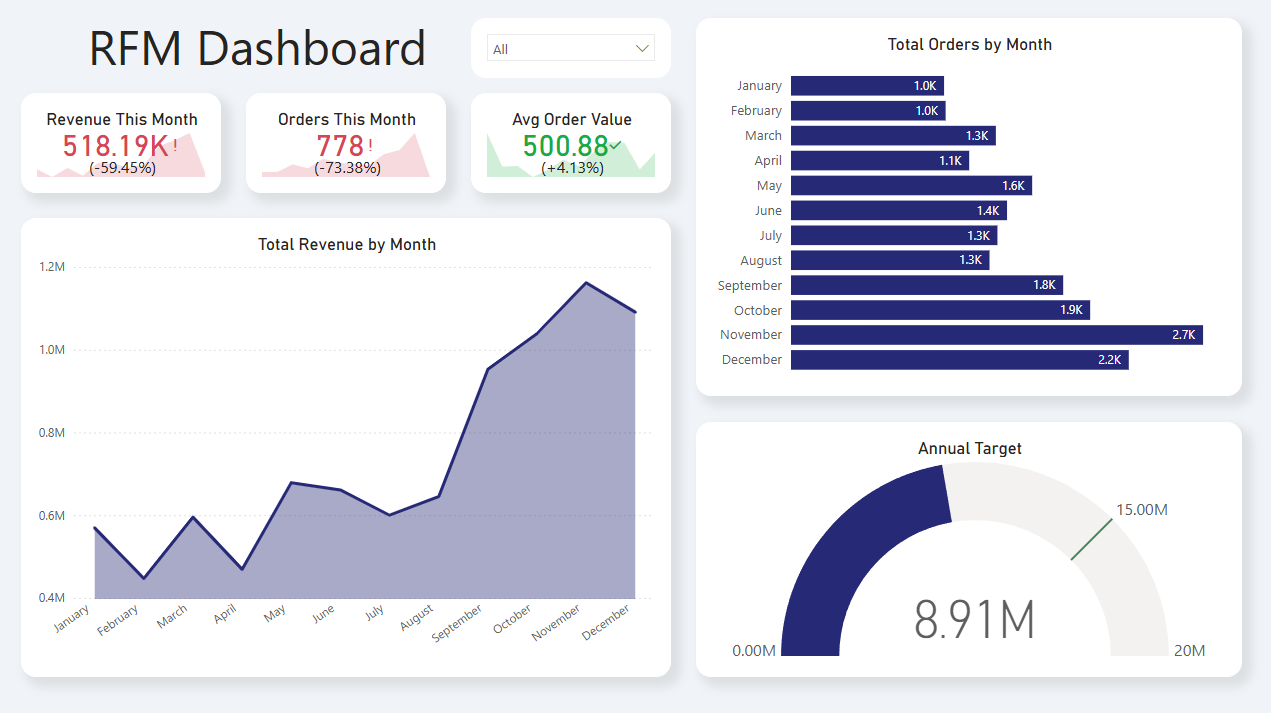

The page's visual inventory and layout, read from the dashboard file:
{"tool":"powerbi","page":{"name":"Sales Overview","canvas":[1280,720],"ordinal":0},"visuals":[{"type":"kpi","title":"Revenue This Month","fields":{"Indicator":["cleaned_retail.Revenue This Month"],"TrendLine":["cleaned_retail.InvoiceDate.Variation.Date Hierarchy.Month"],"Goal":["cleaned_retail.Revenue Target"]},"box":[25,100,200,100],"z":0},{"type":"kpi","title":"Orders This Month","fields":{"Indicator":["cleaned_retail.Orders This Month"],"TrendLine":["cleaned_retail.InvoiceDate.Variation.Date Hierarchy.Month"],"Goal":["cleaned_retail.Orders Target"]},"box":[250,100,200,100],"z":1000},{"type":"gauge","title":"Annual Target","fields":{"Y":["cleaned_retail.Total Revenue"],"MaxValue":["cleaned_retail.AnnualGoal"],"TargetValue":["cleaned_retail.AnnualMax"]},"box":[700,429,546,255],"z":2000},{"type":"barChart","fields":{"Category":["cleaned_retail.InvoiceDate.Variation.Date Hierarchy.Month"],"Y":["cleaned_retail.Total Orders"]},"box":[700,25,546,378],"z":3000},{"type":"lineChart","fields":{"Category":["cleaned_retail.InvoiceDate.Variation.Date Hierarchy.Month"],"Y":["cleaned_retail.Total Revenue"]},"box":[25,225,650,459],"z":4000},{"type":"kpi","title":"Avg Order Value","fields":{"TrendLine":["cleaned_retail.InvoiceDate.Variation.Date Hierarchy.Month"],"Indicator":["cleaned_retail.AOV"],"Goal":["cleaned_retail.AOV Target"]},"box":[475,100,200,100],"z":5000},{"type":"textbox","box":[48,15,427,74],"z":6000},{"type":"slicer","fields":{"Values":["cleaned_retail.InvoiceDate.Variation.Date Hierarchy.Month"]},"box":[475,25,200,60],"z":7000}]}

Visuals, with their boxes in screenshot pixels (x1, y1, x2, y2), scaled from the page's 1280x720 canvas onto the 1271x713 screenshot:
"Revenue This Month" kpi: (left=25, top=99, right=223, bottom=198)
"Orders This Month" kpi: (left=248, top=99, right=447, bottom=198)
"Annual Target" gauge: (left=695, top=425, right=1237, bottom=677)
barChart - cleaned_retail.InvoiceDate.Variation.Date Hierarchy.Month x cleaned_retail.Total Orders: (left=695, top=25, right=1237, bottom=399)
lineChart - cleaned_retail.InvoiceDate.Variation.Date Hierarchy.Month x cleaned_retail.Total Revenue: (left=25, top=223, right=670, bottom=677)
"Avg Order Value" kpi: (left=472, top=99, right=670, bottom=198)
textbox: (left=48, top=15, right=472, bottom=88)
slicer - cleaned_retail.InvoiceDate.Variation.Date Hierarchy.Month: (left=472, top=25, right=670, bottom=84)
